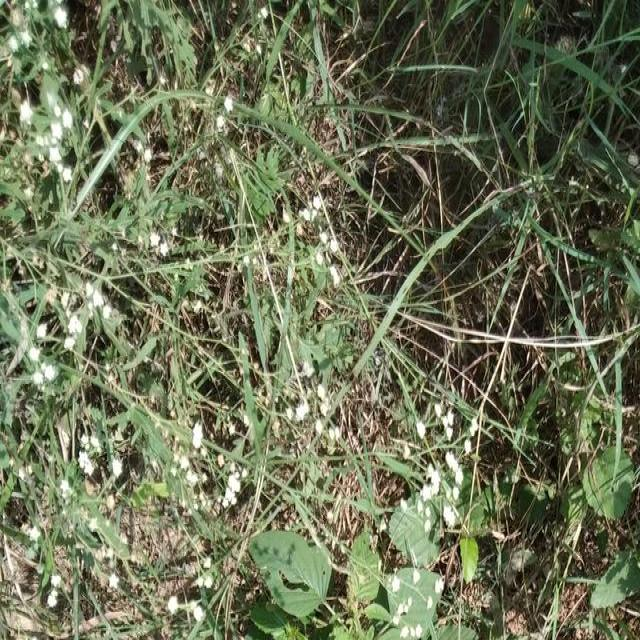weed: (455, 7, 640, 294), (240, 538, 472, 640), (0, 15, 87, 195), (378, 418, 514, 526), (162, 432, 261, 524), (9, 285, 112, 372), (275, 194, 356, 296)
